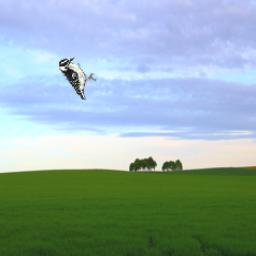Woodpecker: (59, 58, 98, 101)
